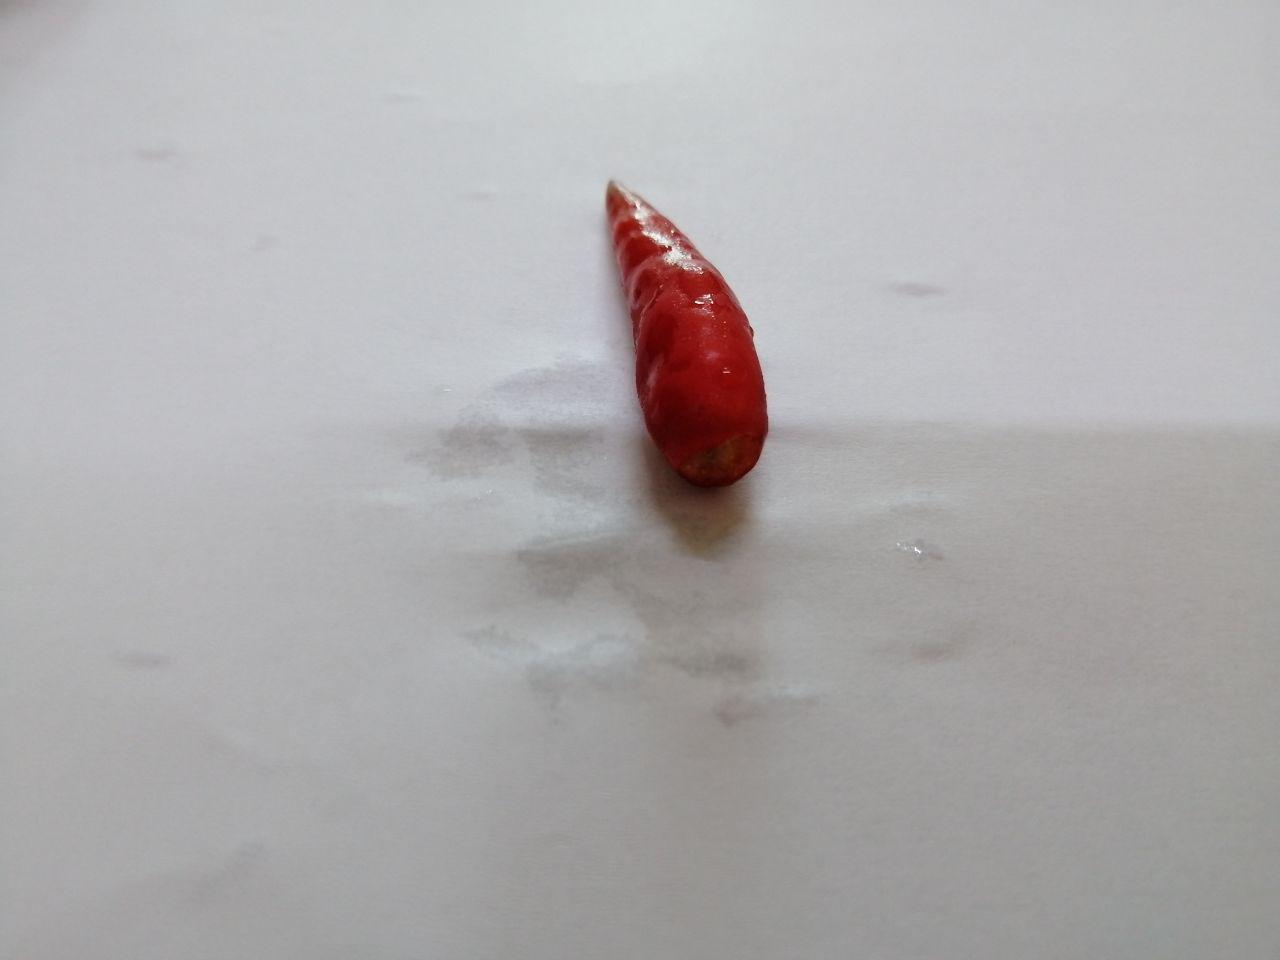lada merah: (569, 169, 781, 508)
